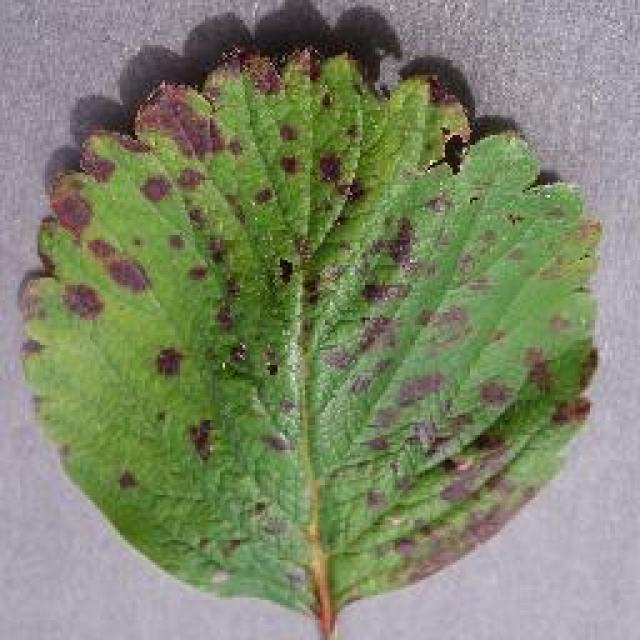Strawberry leaf scorch: (80, 65, 488, 407)
